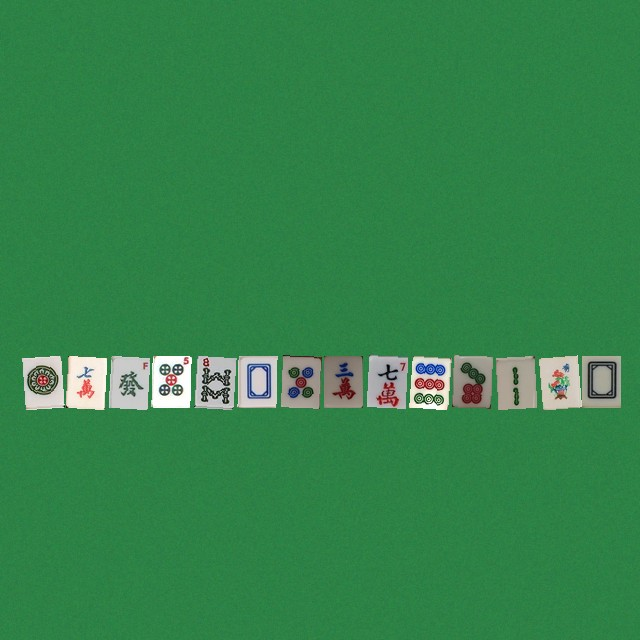tile: (22, 355, 61, 407), (65, 355, 104, 407), (108, 355, 147, 407), (151, 355, 190, 407), (194, 355, 233, 407), (237, 355, 276, 407), (280, 355, 319, 407), (323, 355, 362, 407), (366, 355, 405, 407), (409, 355, 448, 407), (452, 355, 491, 407), (495, 355, 534, 407), (538, 355, 577, 407), (581, 355, 620, 407)
